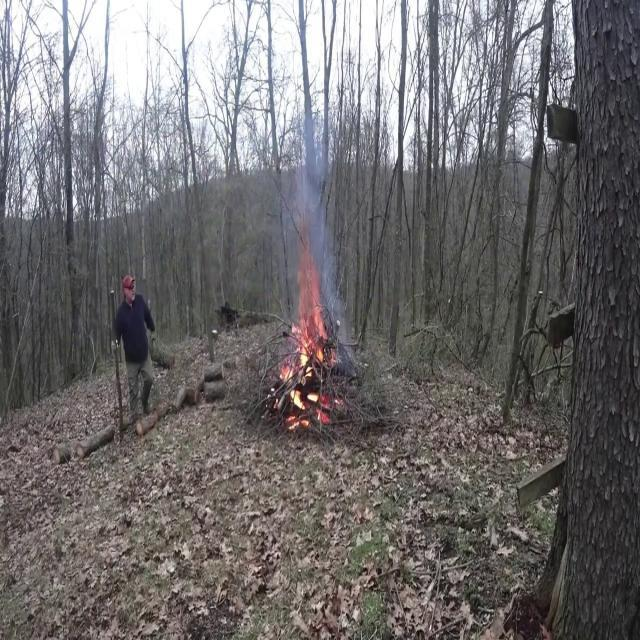Fire: (273, 116, 343, 430), (278, 314, 334, 428)
Smoke: (276, 118, 342, 350)
